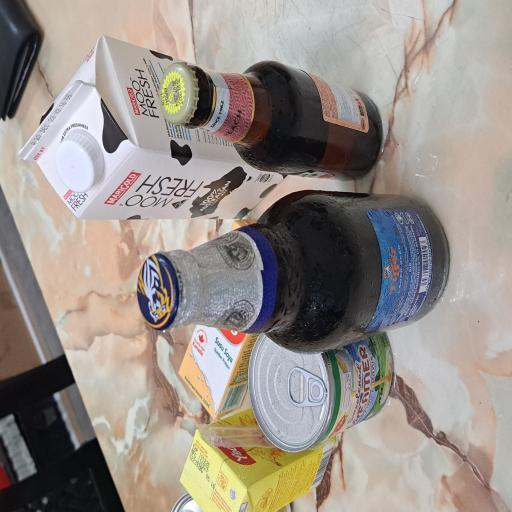can: (46, 331, 136, 512)
drink carton: (220, 26, 358, 380), (0, 239, 79, 443), (70, 235, 137, 335)
glass bottle: (120, 183, 242, 512), (252, 218, 340, 511)
plastic bottle cap: (240, 73, 288, 141)
pop tab: (79, 383, 108, 437)
